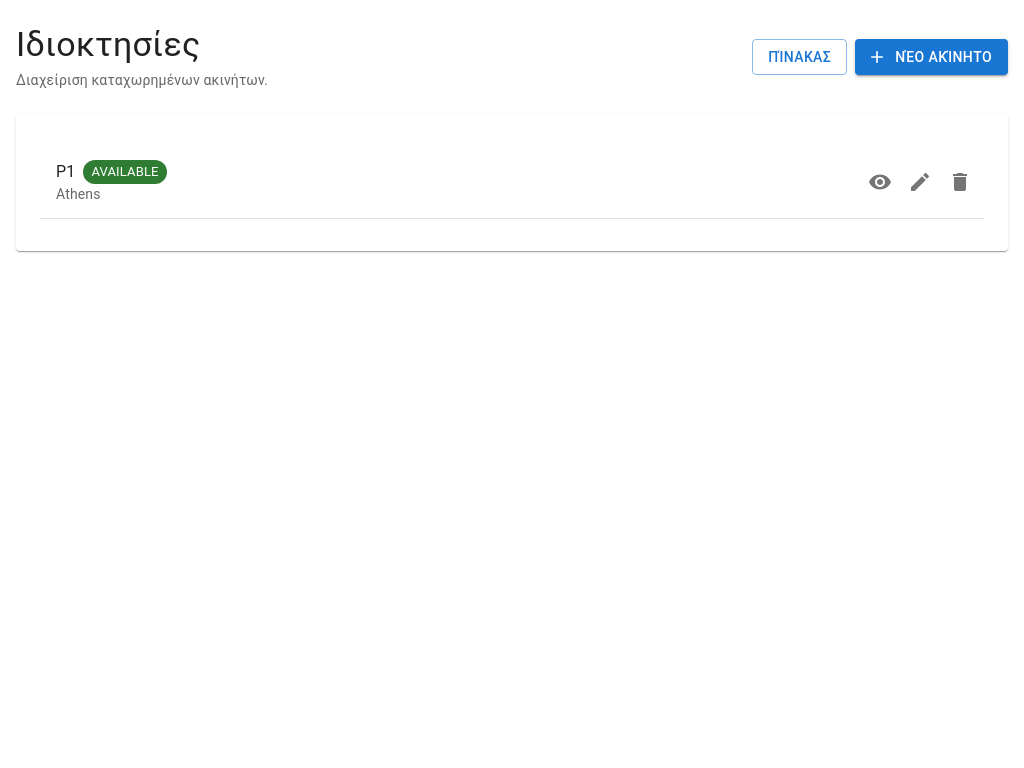
Test case: delete property 409 shows active-contract message
Expected: the text "P1" is shown, [56,160,75,184]
Click the button named "Διαγραφή ακινήτου" at (960, 182), box [940,162,980,202]
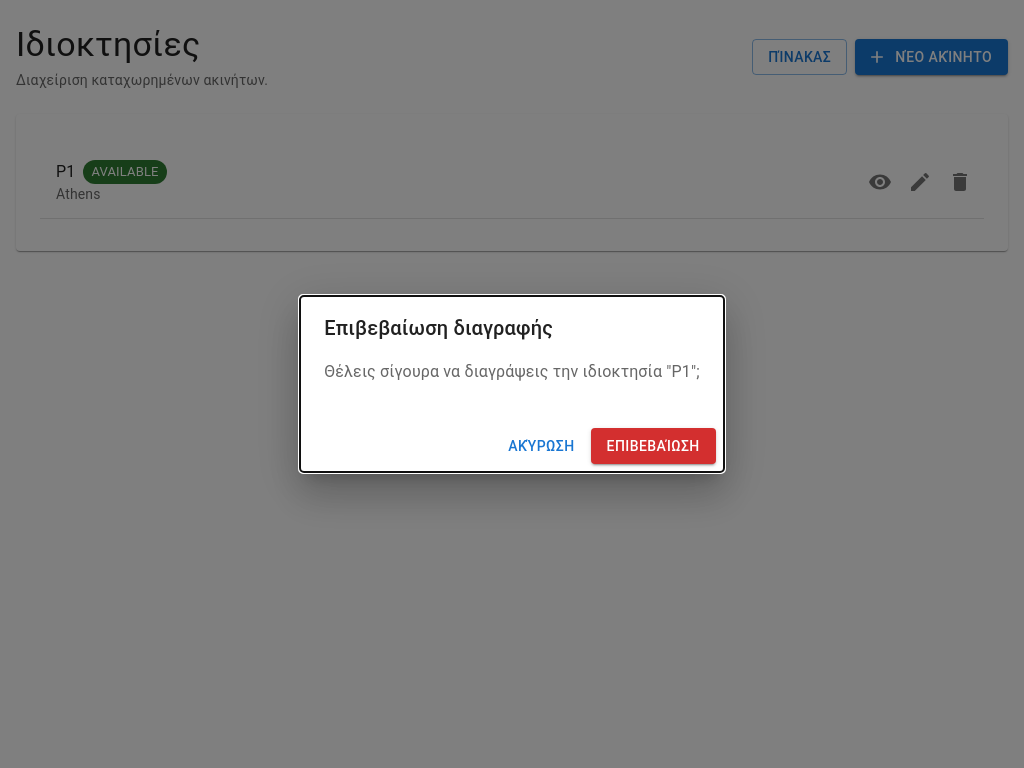
Click the button "Επιβεβαίωση" at (653, 446), box [591,428,716,464]
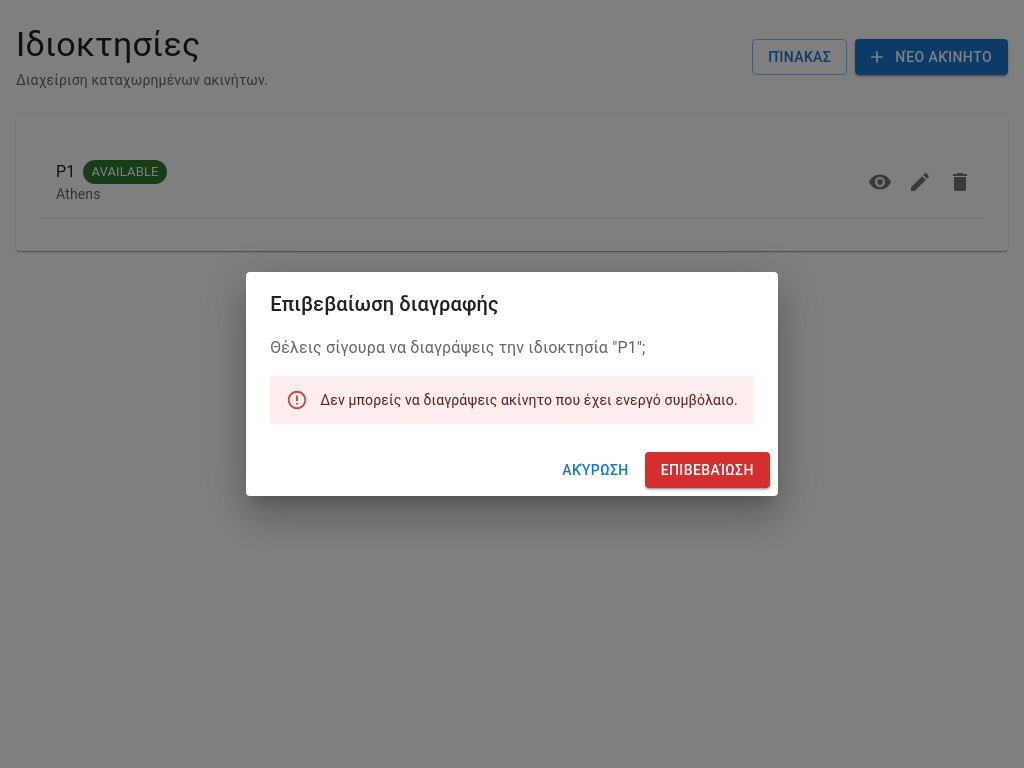
Expected: the text "Δεν μπορείς να διαγράψεις ακίνητο που έχει ενεργό συμβόλαιο." is shown, [320,392,738,408]
